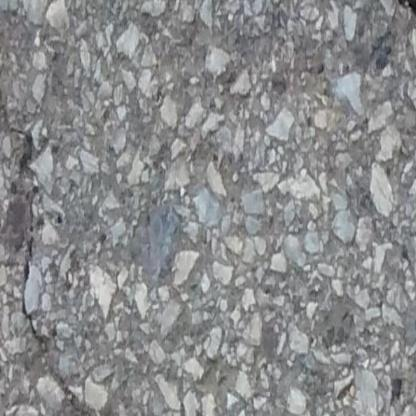Cracks: (0, 83, 108, 416), (385, 0, 416, 26)
